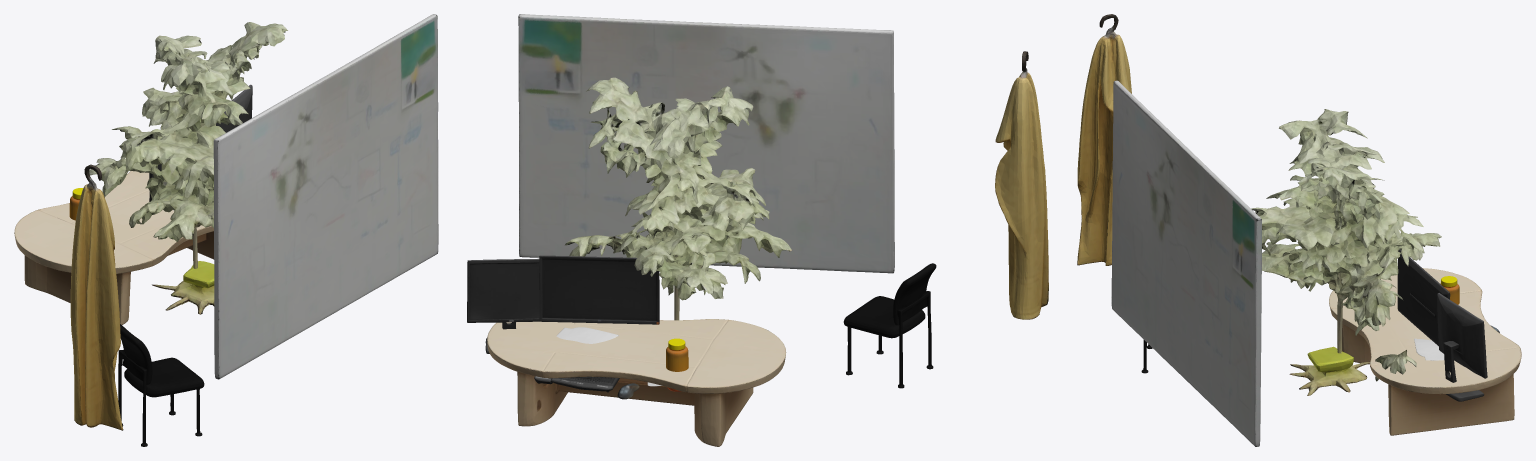
The model's file is ours.glb.
3 renders of one model, left to right at view 1: azimuth 30°, elevation 25°; view 2: azimuth 150°, elevation 25°; view 3: azimuth 270°, elevation 25°, orthographic. The views are drawn at different scales.
Visible parts, largest first — view 1: geometry_6, geometry_12, geometry_7, geometry_4, geometry_3, geometry_8; view 2: geometry_6, geometry_12, geometry_4, geometry_7, geometry_5, geometry_8, geometry_3, geometry_1, geometry_11, geometry_0; view 3: geometry_6, geometry_12, geometry_4, geometry_7, geometry_8, geometry_5, geometry_11.
Part boxes in pixels (<box>): geometry_6: <box>213,14,438,379</box>; geometry_12: <box>89,22,287,314</box>; geometry_7: <box>70,164,123,430</box>; geometry_4: <box>14,171,213,324</box>; geometry_3: <box>118,324,204,446</box>; geometry_8: <box>216,84,252,132</box>; geometry_6: <box>518,14,894,273</box>; geometry_12: <box>565,77,791,320</box>; geometry_4: <box>487,319,786,446</box>; geometry_7: <box>995,51,1048,319</box>; geometry_5: <box>539,255,659,324</box>; geometry_8: <box>467,258,539,353</box>; geometry_3: <box>843,263,936,388</box>; geometry_1: <box>534,376,619,392</box>; geometry_11: <box>556,327,618,343</box>; geometry_0: <box>666,338,688,391</box>; geometry_6: <box>1111,80,1261,446</box>; geometry_12: <box>1251,109,1441,395</box>; geometry_4: <box>1329,268,1521,435</box>; geometry_7: <box>1077,14,1131,265</box>; geometry_8: <box>1437,293,1487,401</box>; geometry_5: <box>1397,249,1450,346</box>; geometry_11: <box>1414,338,1444,360</box>.
Bounding box in the file's own units: 1.65 × 1.12 × 1.51.
13 materials, 13 textured.
